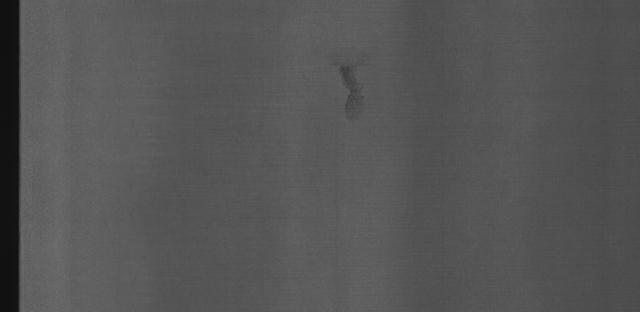water_spot: (312, 48, 384, 134)
